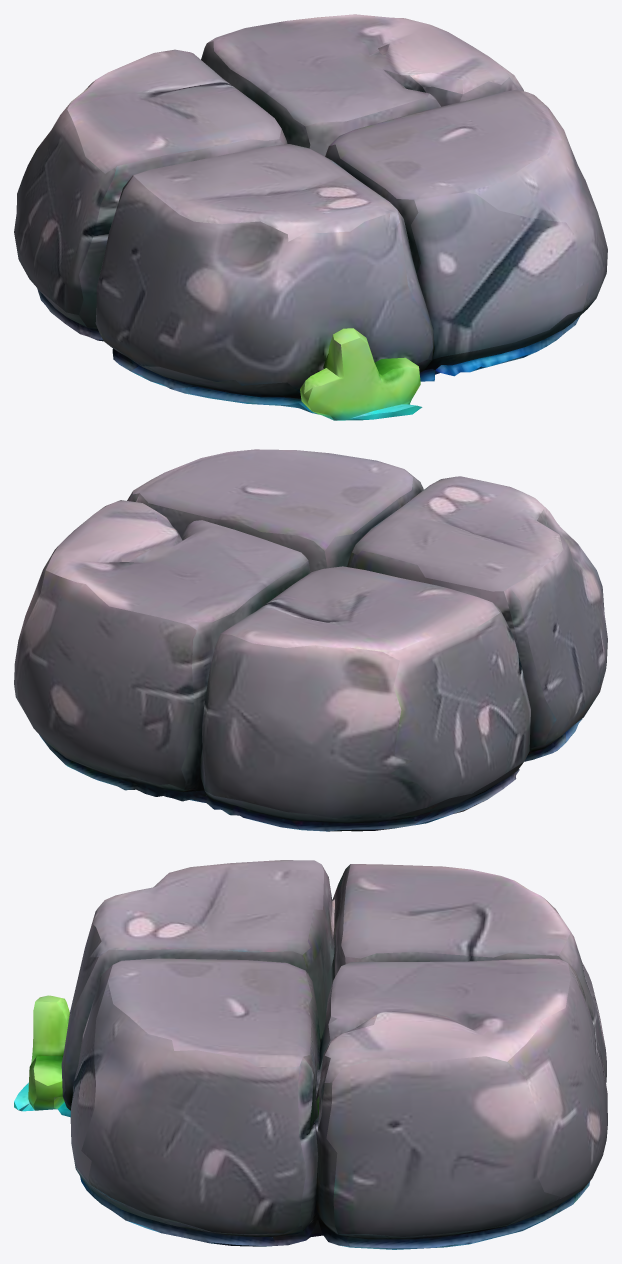
Rendered from rock.glb.
3 renders of one model, top to bottom at view 1: azimuth 30°, elevation 25°; view 2: azimuth 150°, elevation 25°; view 3: azimuth 270°, elevation 25°, orthographic. The views are drawn at different scales.
Visible parts, largest first — view 1: rock_s19; view 2: rock_s19; view 3: rock_s19.
Part boxes in pixels (x1,y1,x2,y2): rock_s19: (14, 14, 607, 420); rock_s19: (14, 449, 607, 831); rock_s19: (14, 860, 607, 1249).
Size of the model in its own units: 0.9504 by 0.3413 by 1.
Materials: 1 (1 with a texture image).
